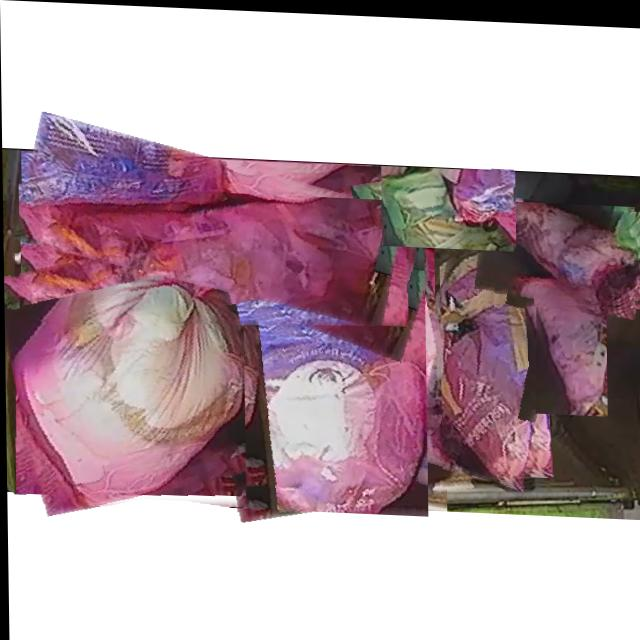other_trashbag: (204, 209, 425, 510), (12, 247, 242, 505), (19, 195, 405, 324), (440, 245, 563, 481), (493, 198, 639, 300), (382, 166, 515, 246), (536, 281, 606, 410)
